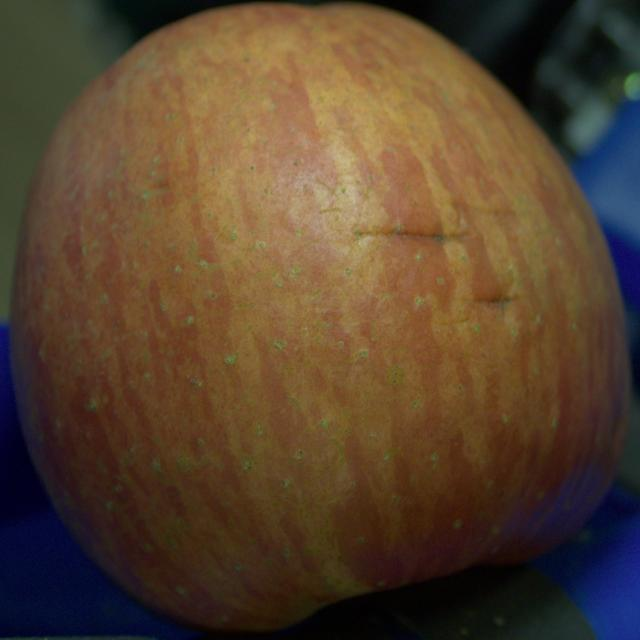apple: (10, 4, 631, 632)
scratch: (354, 226, 468, 243), (448, 198, 522, 220), (475, 292, 514, 306)
